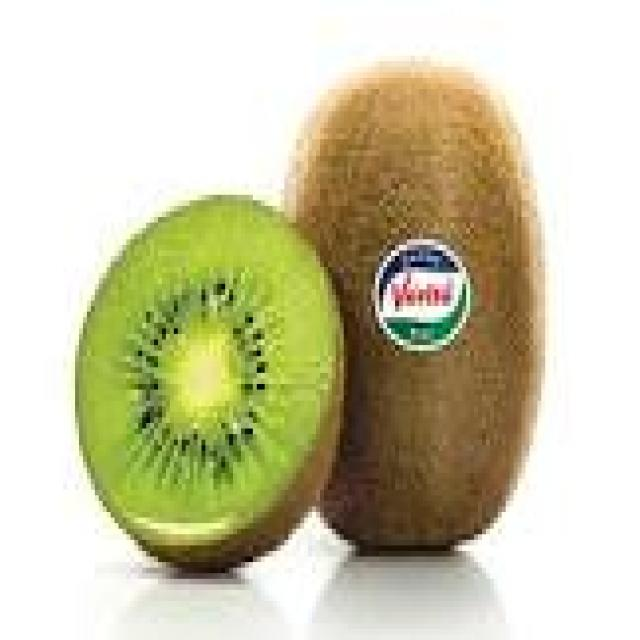kivi: (298, 65, 542, 549), (76, 199, 344, 569)
